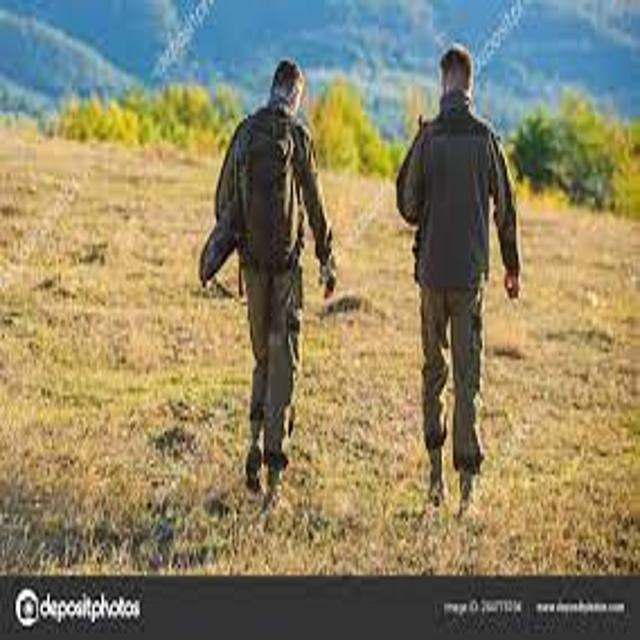bag: (200, 98, 332, 310)
poacher: (354, 22, 571, 542), (163, 38, 381, 529)
